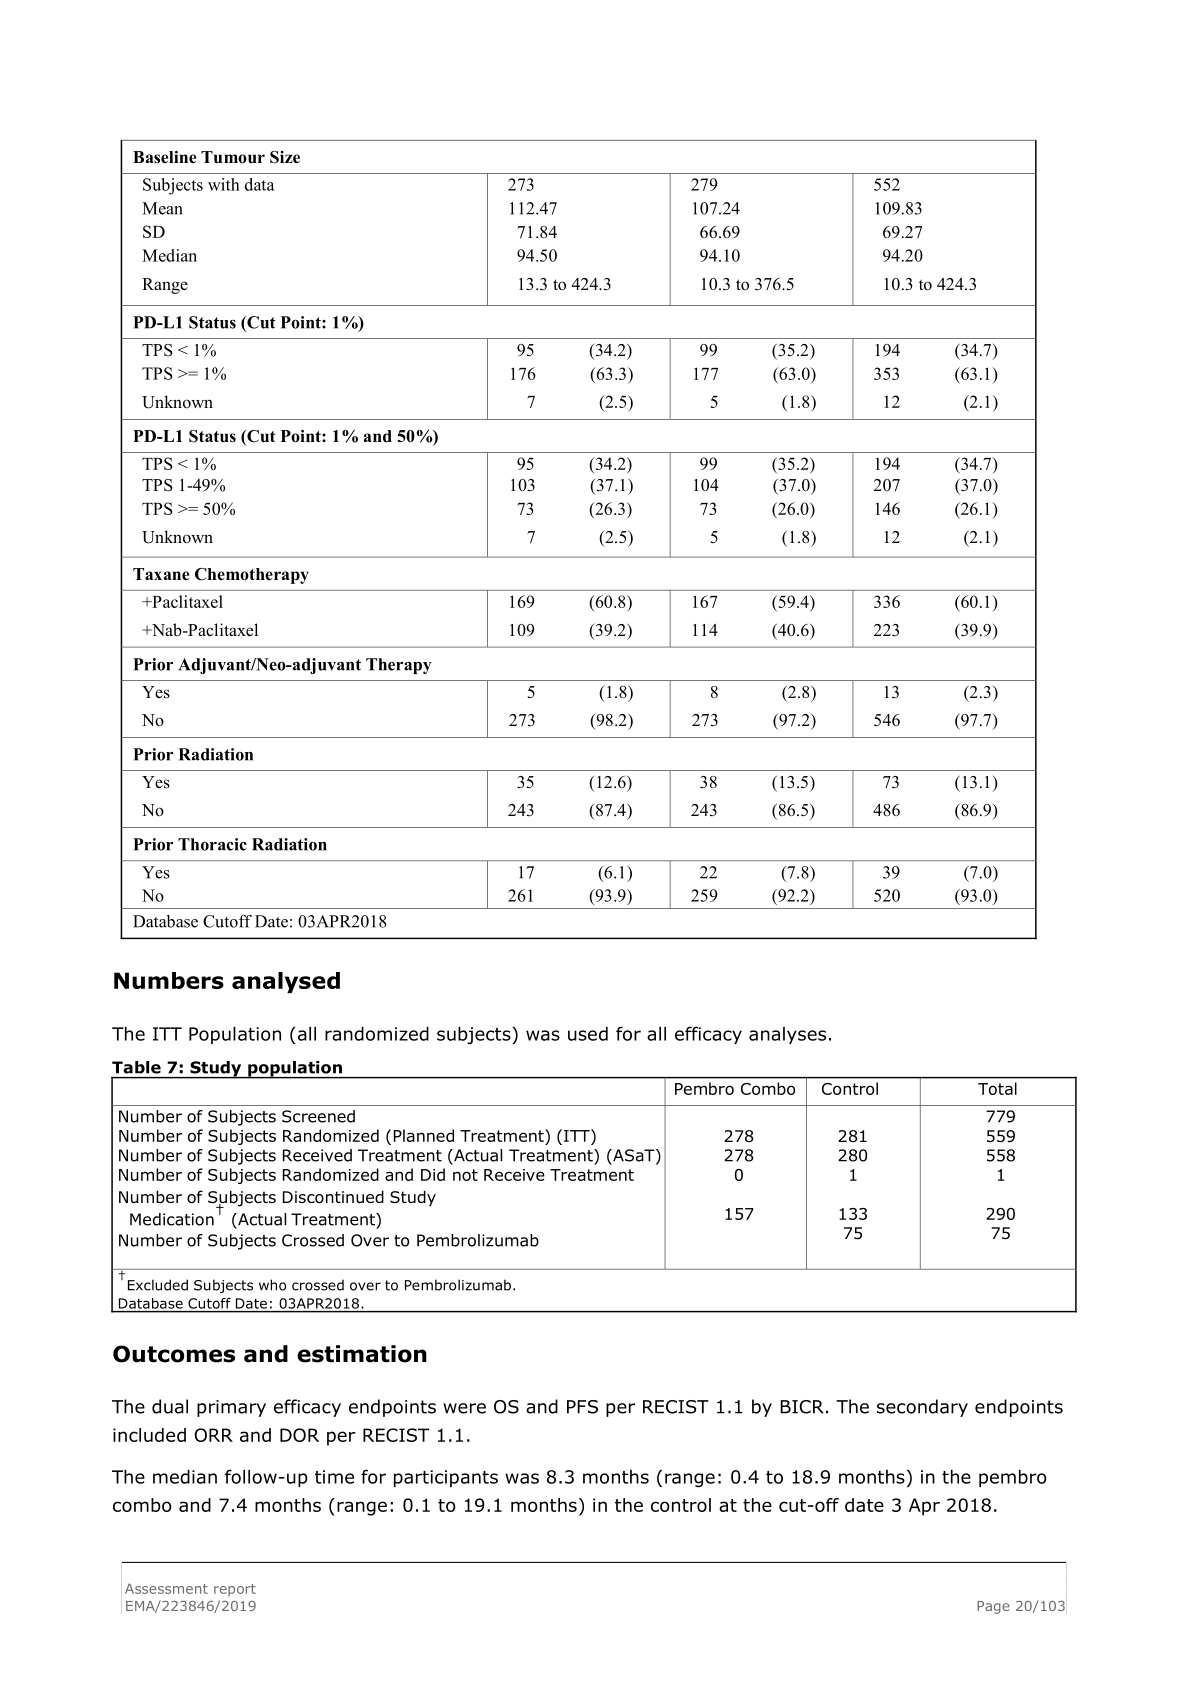partial_lined_merged_cells: (117, 135, 1039, 943), (109, 1074, 1078, 1314)
